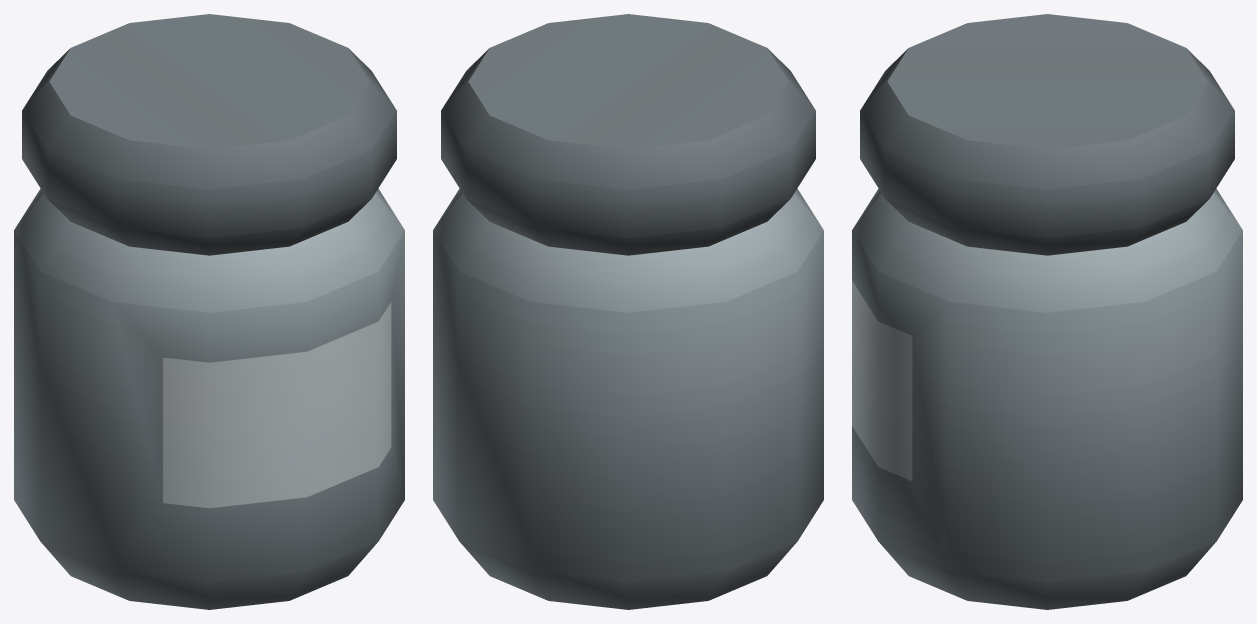
Rendered from kaykit-jar-set-b.glb.
The picture shows the model from 3 angles, left to right: view 1: azimuth 30°, elevation 25°; view 2: azimuth 150°, elevation 25°; view 3: azimuth 270°, elevation 25°; orthographic projection.
Parts seen in each view (by area): view 1: jar_B_medium; view 2: jar_B_medium; view 3: jar_B_medium.
Boxes of the visible parts, bbox=[...] form: jar_B_medium: bbox=[14, 14, 404, 609]; jar_B_medium: bbox=[433, 14, 823, 609]; jar_B_medium: bbox=[852, 14, 1242, 609].
Size of the model in its own units: 0.5 by 0.65 by 0.5.
Materials: 1 (1 with a texture image).
